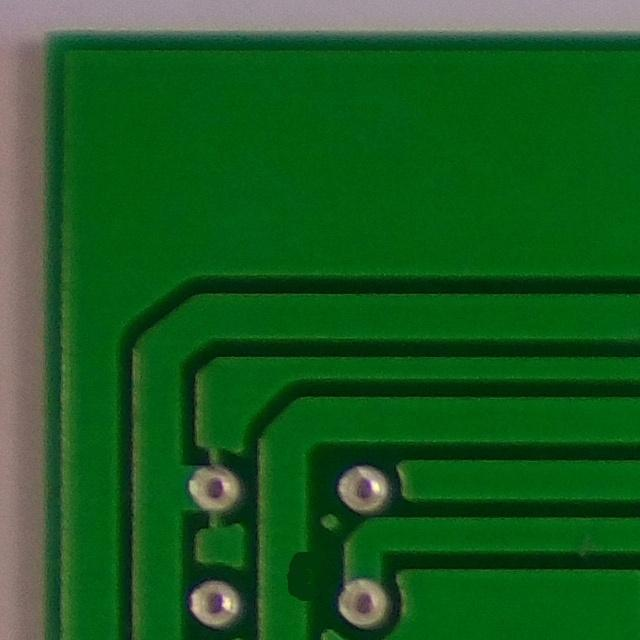mouse_bite: (262, 541, 328, 610)
